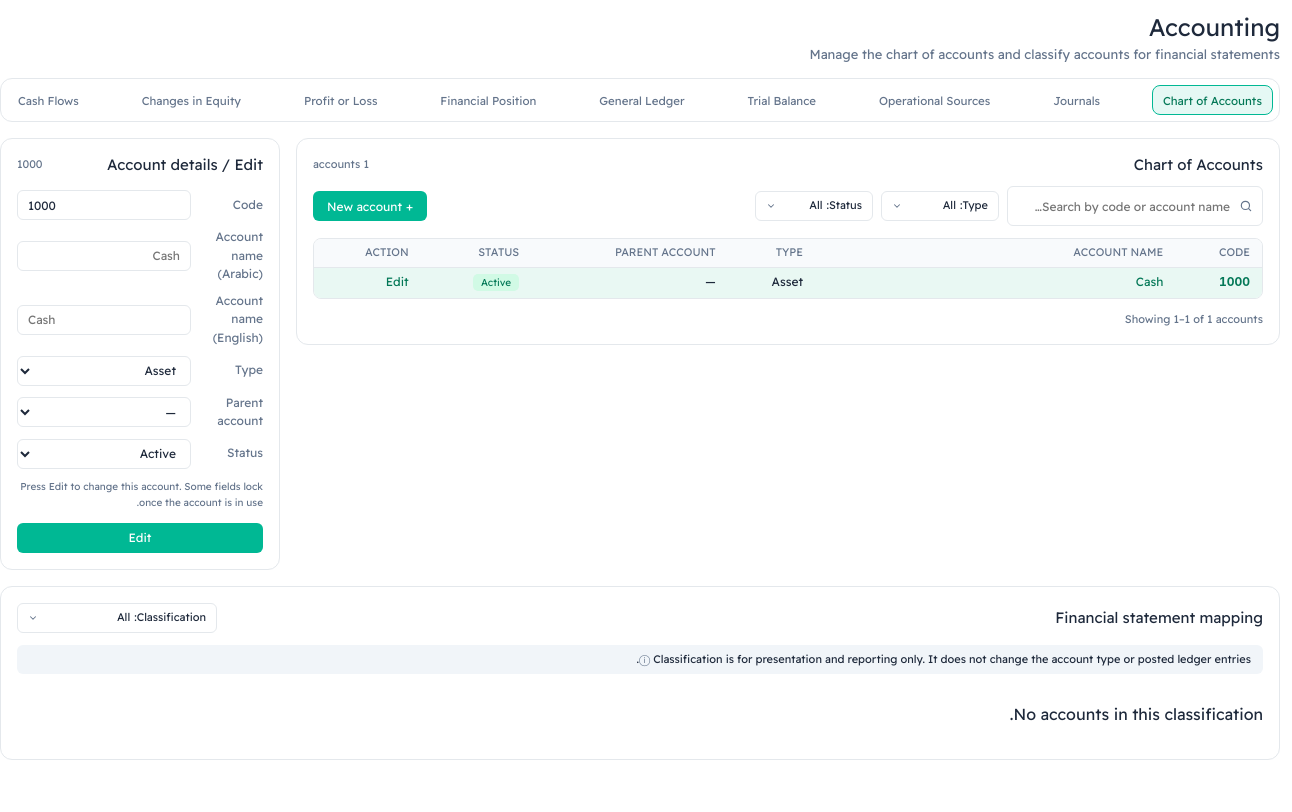
Test case: Accounting integration contracts › does not restore stale success feedback after a later mutation fails and load is retried
Click the button "+ New account": (370, 206) left=313, top=191, right=427, bottom=221
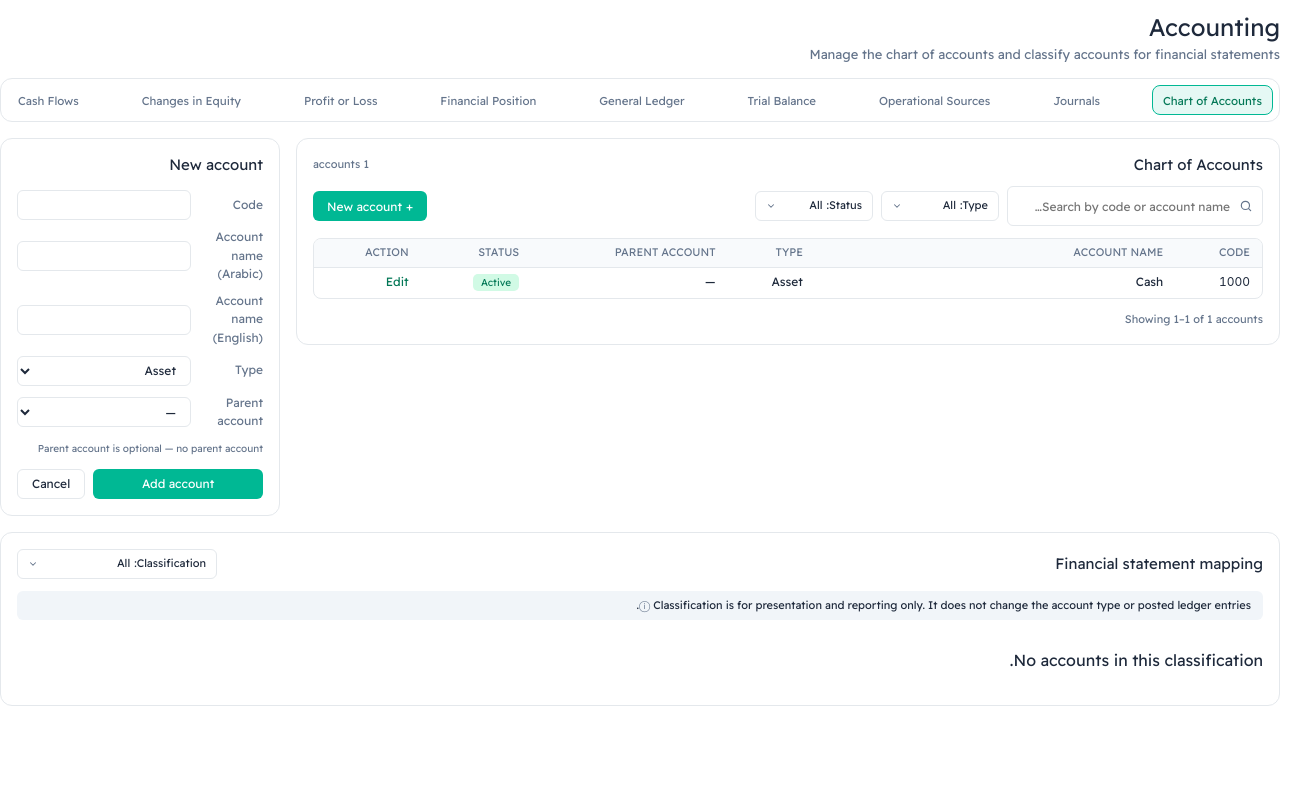
In the field labelled "Code": (104, 205) left=17, top=190, right=191, bottom=220, type "1000"
In the field labelled "Account name (English)": (104, 320) left=17, top=305, right=191, bottom=335, type "Cash"
Click the button "Add account": (178, 484) left=93, top=469, right=263, bottom=499
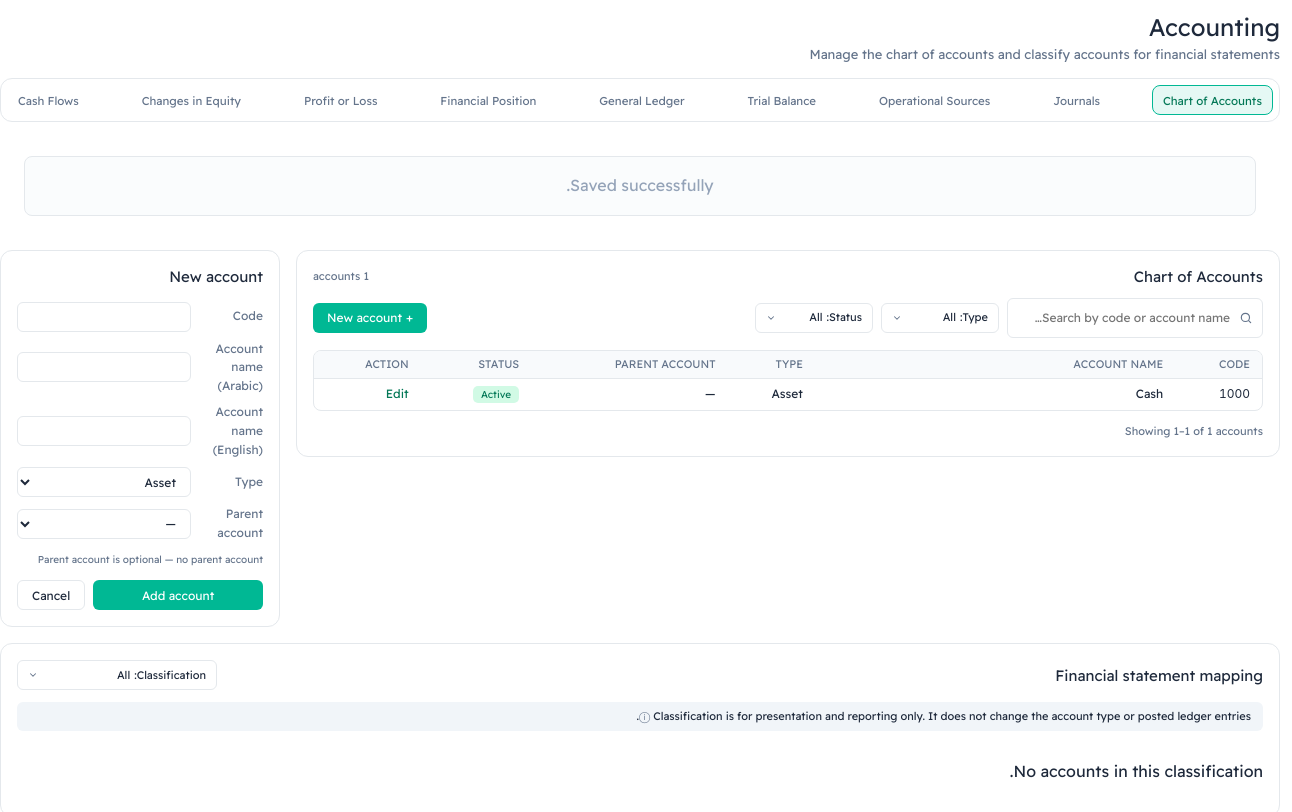
Expected: the button "Add account" is enabled, left=93, top=580, right=263, bottom=610
Now the text "Saved successfully." is shown, box left=566, top=173, right=714, bottom=199
In the field labelled "Code": (104, 317) left=17, top=302, right=191, bottom=332, type "2000"
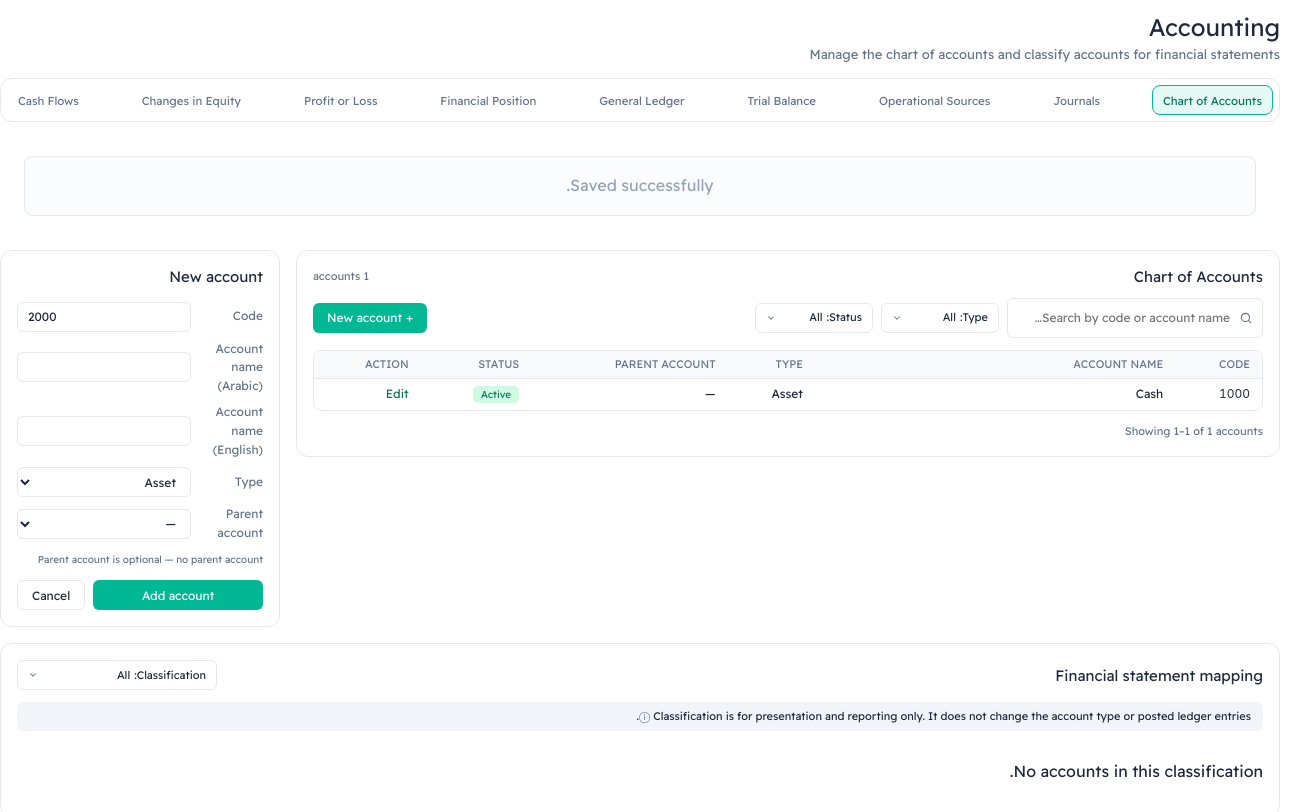
In the field labelled "Account name (English)": (104, 431) left=17, top=416, right=191, bottom=446, type "Receivable"
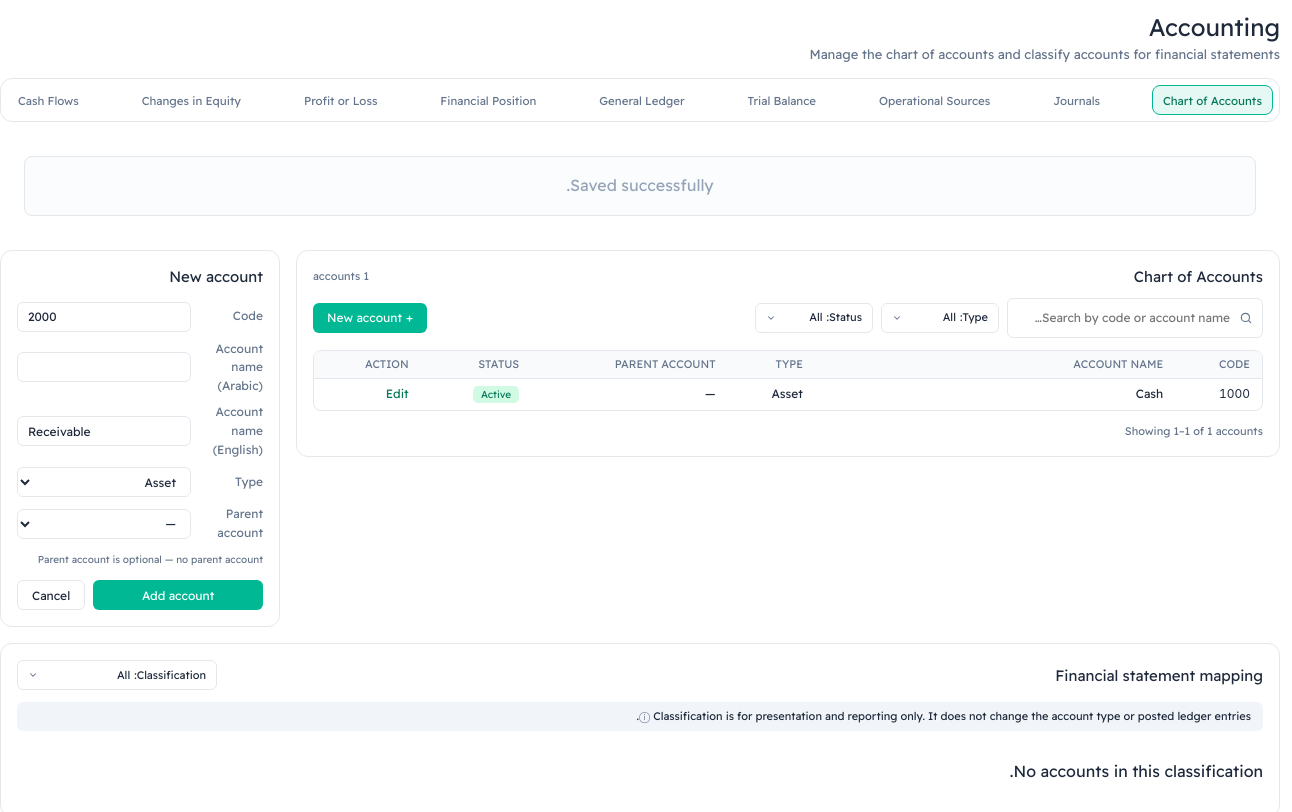
Submit the form "Code", box left=17, top=302, right=263, bottom=610
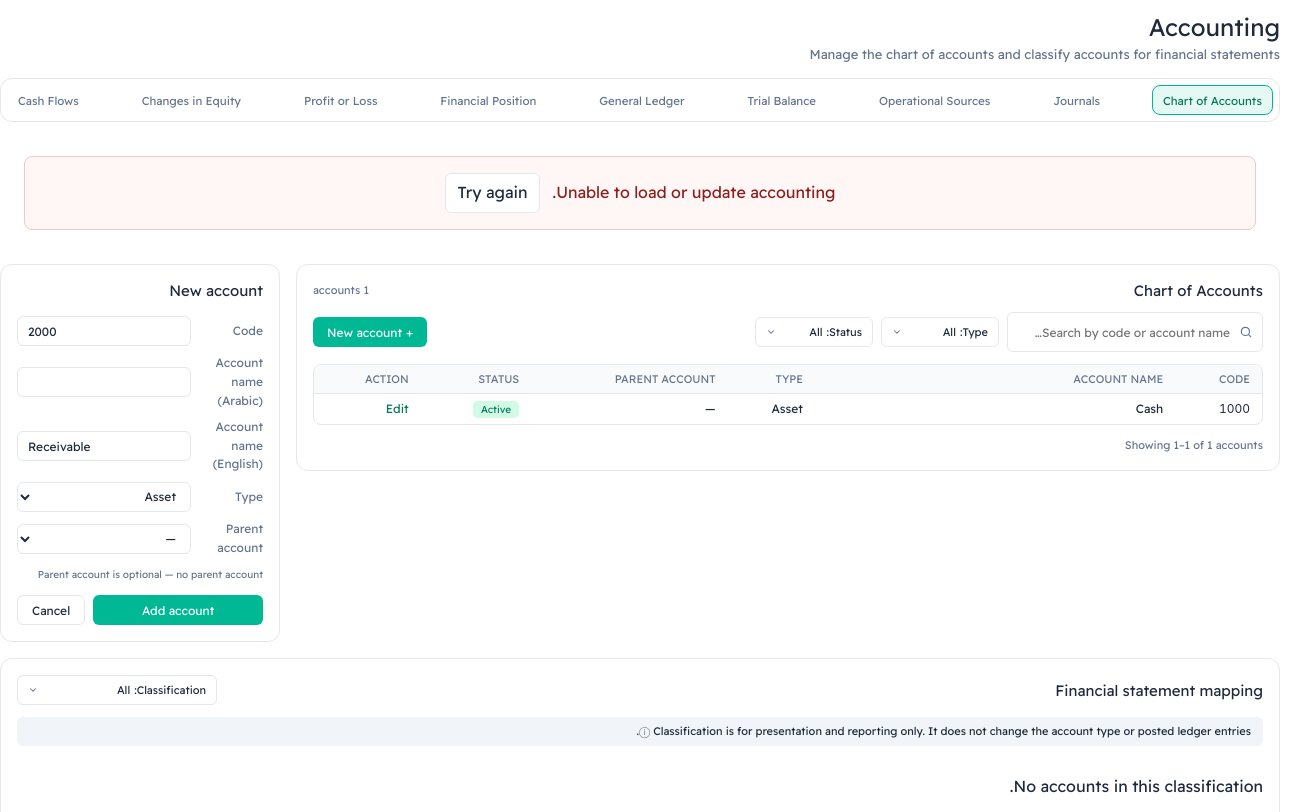
Now the text "Unable to load or update accounting." is shown, box left=552, top=180, right=836, bottom=206
Now the text "Saved successfully." is gone
Click the button "Try again": (493, 193) left=445, top=173, right=540, bottom=213
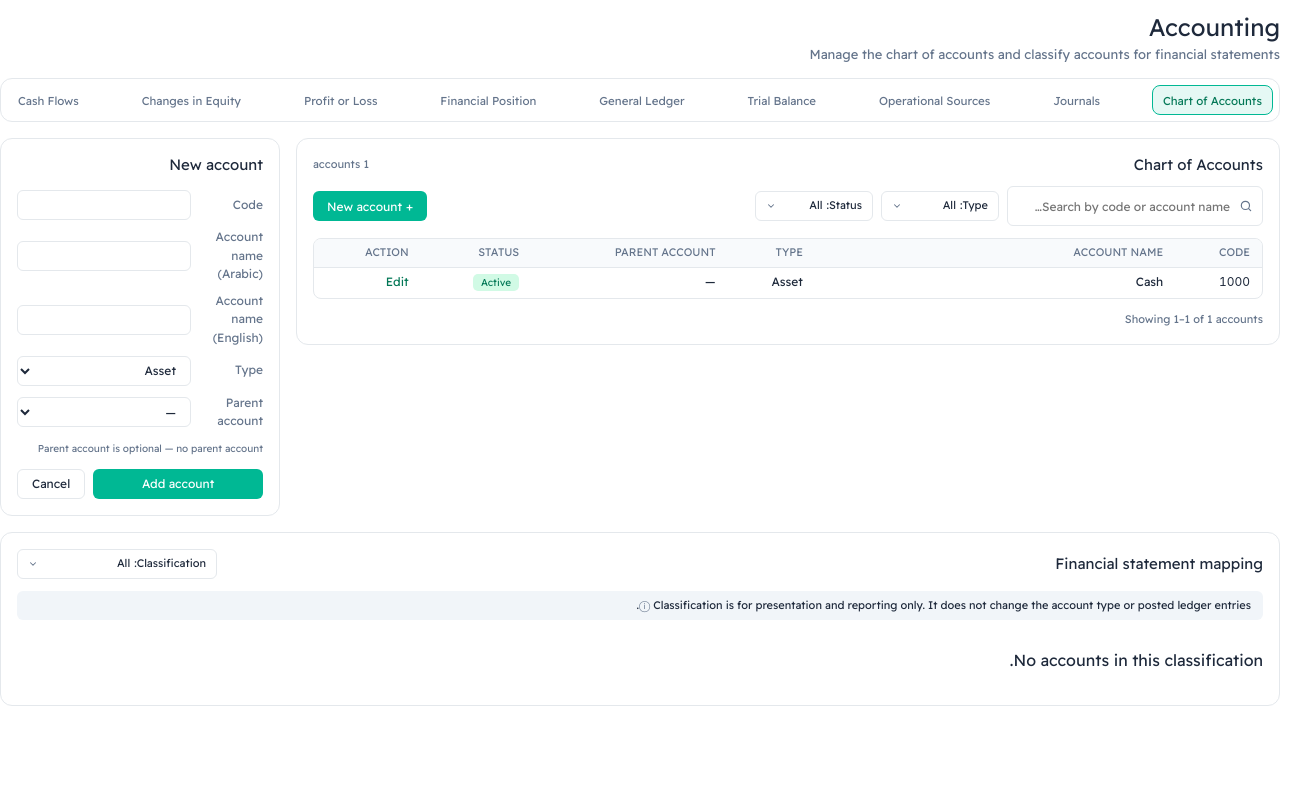
Expected: the text "Saved successfully." is not shown
Now the text "Unable to load or update accounting." is gone
